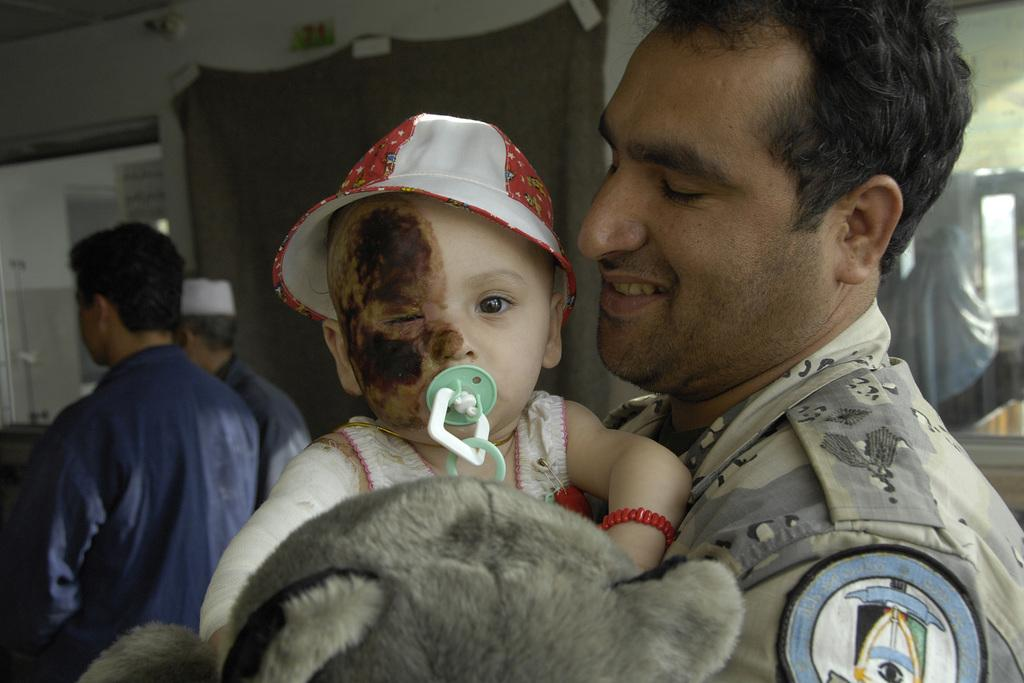Hat: (270, 110, 578, 328)
